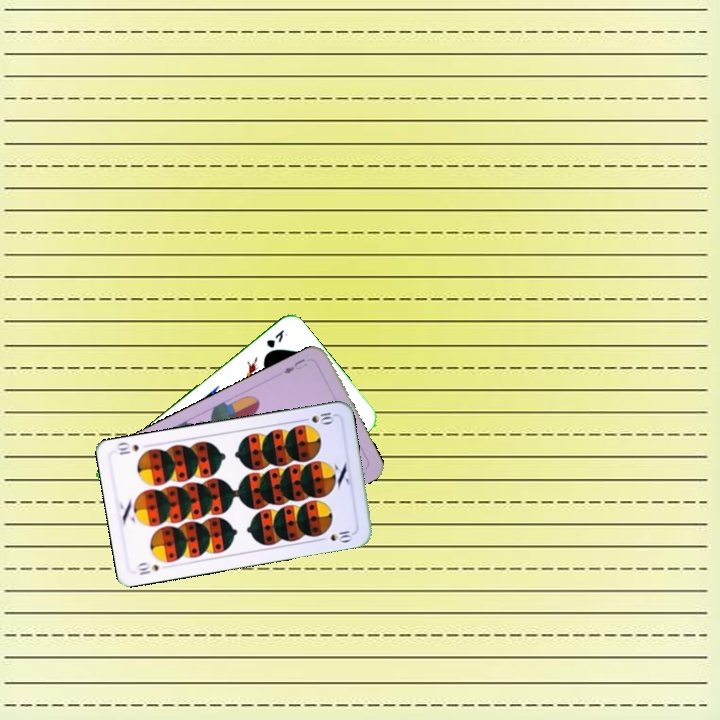EU: (279, 354, 310, 376)
GK: (262, 325, 290, 350)
S10: (297, 408, 337, 427), (133, 559, 161, 577)
